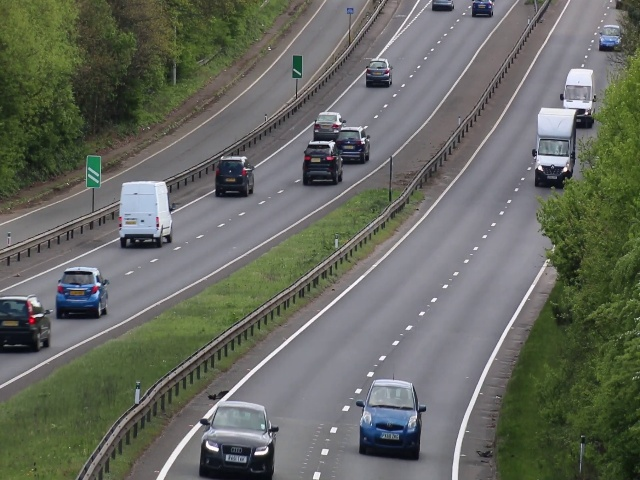car: (196, 399, 278, 480), (355, 377, 423, 459), (118, 179, 174, 249), (1, 294, 52, 352), (53, 266, 109, 317), (534, 134, 571, 191), (302, 140, 344, 188), (211, 154, 255, 197), (561, 73, 594, 112), (337, 126, 372, 160), (364, 56, 394, 88), (314, 111, 335, 140), (600, 24, 621, 51), (470, 1, 495, 19)
